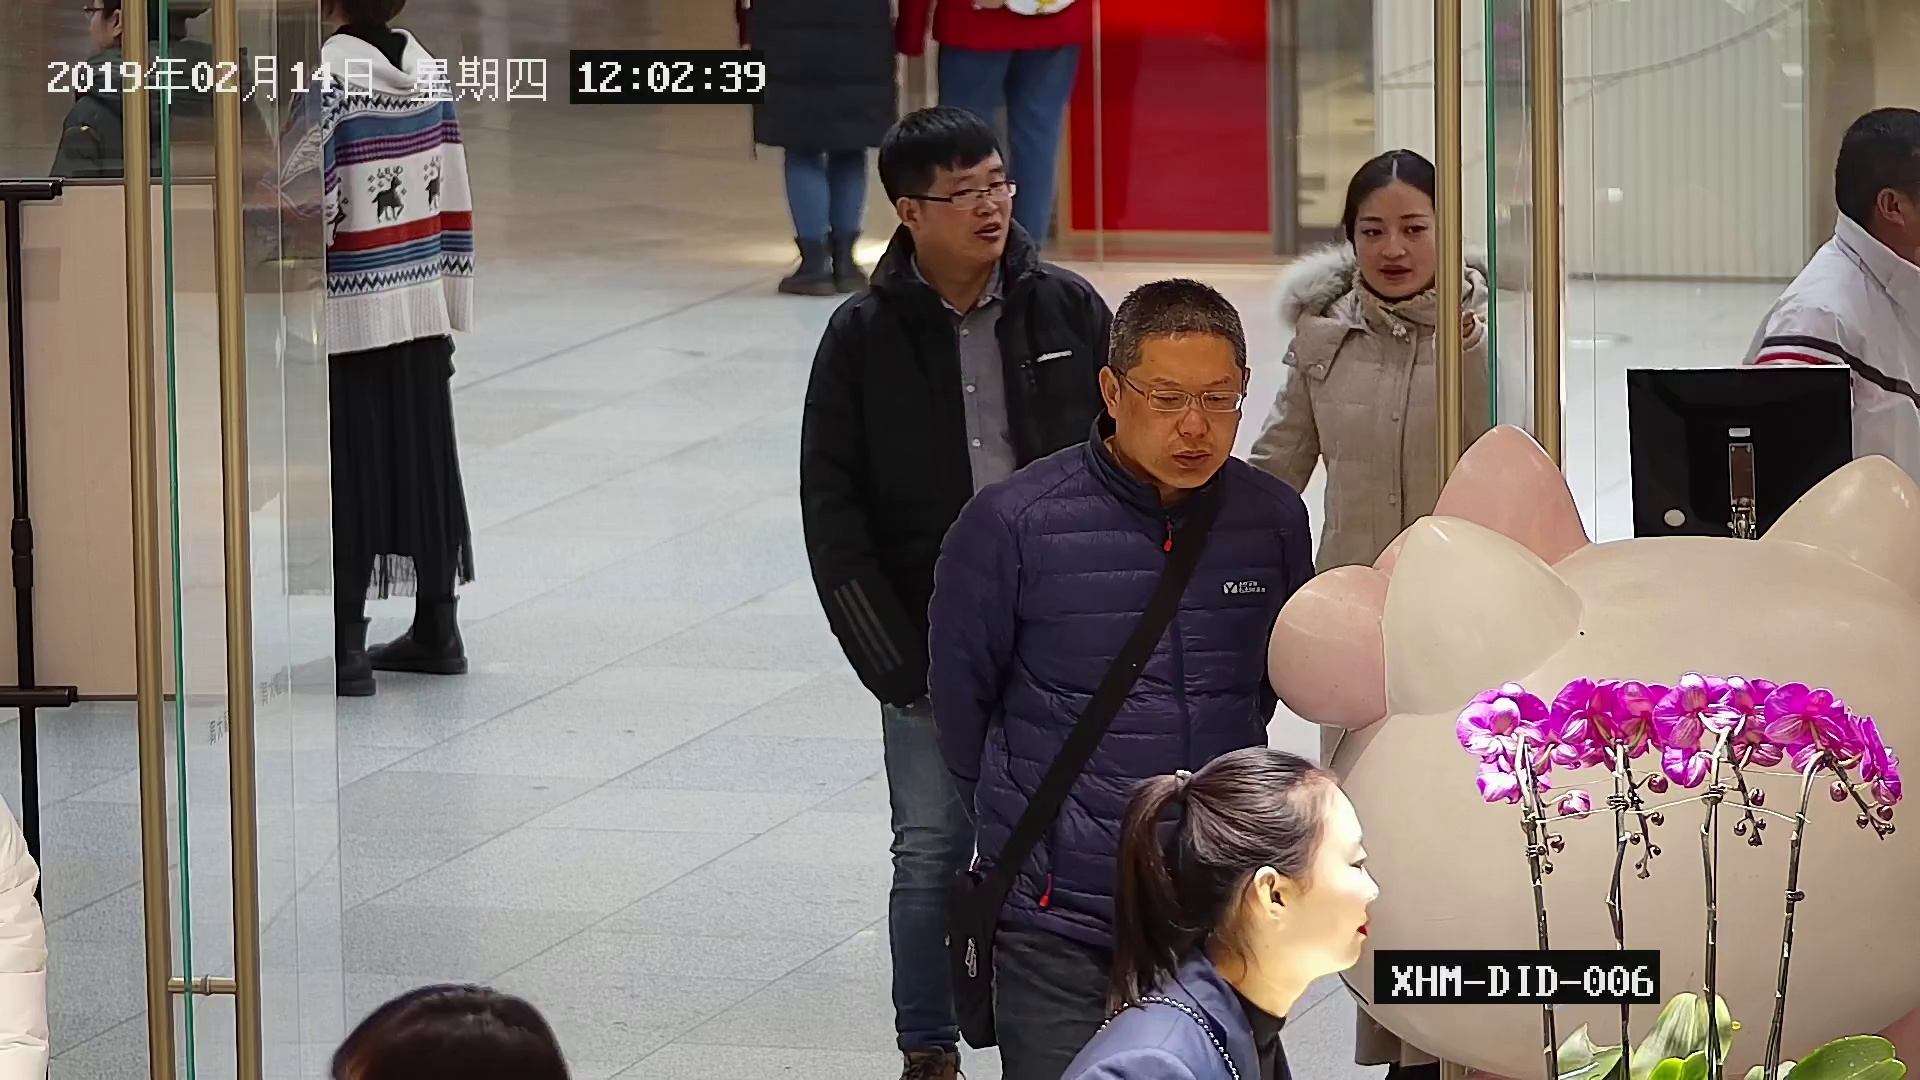head: (1180, 748, 1379, 969), (1096, 272, 1247, 487), (326, 980, 565, 1075), (875, 107, 1016, 256), (1340, 146, 1447, 295), (1828, 100, 1915, 267), (87, 0, 186, 63)
